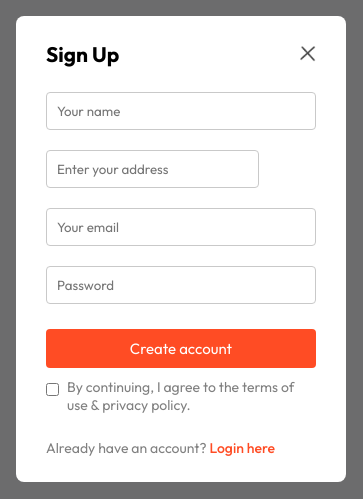
Test: LoginPopup › should switch between login and sign up forms
Expected: the heading "Sign Up" is shown, [46,41,119,67]
Note: Switch to Login
Click the text "Login here" at (242, 448), box [210,439,275,457]
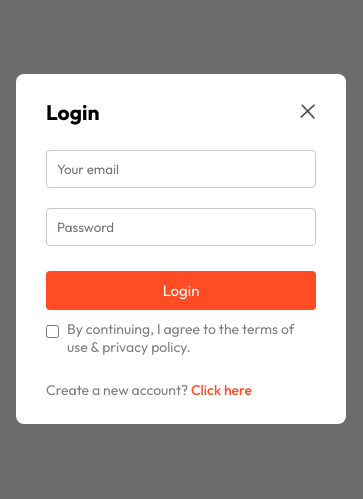
Now the heading "Login" is shown, box [46,99,100,125]
Note: Switch back to Sign Up
Click the text "Click here" at (222, 390), box [191,381,252,399]
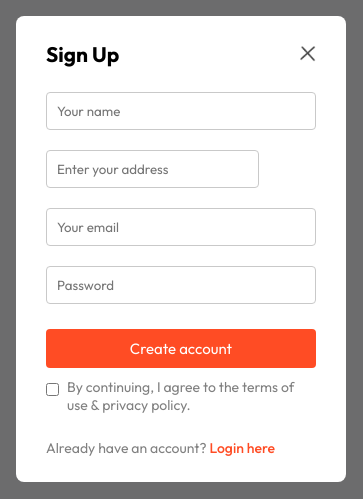
Now the heading "Sign Up" is shown, box [46,41,119,67]
